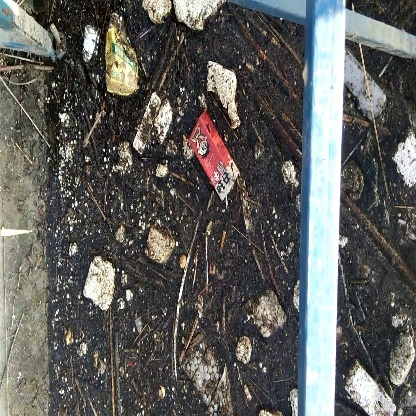milk-box: (185, 116, 248, 204)
plastic-bag: (99, 16, 148, 105)
